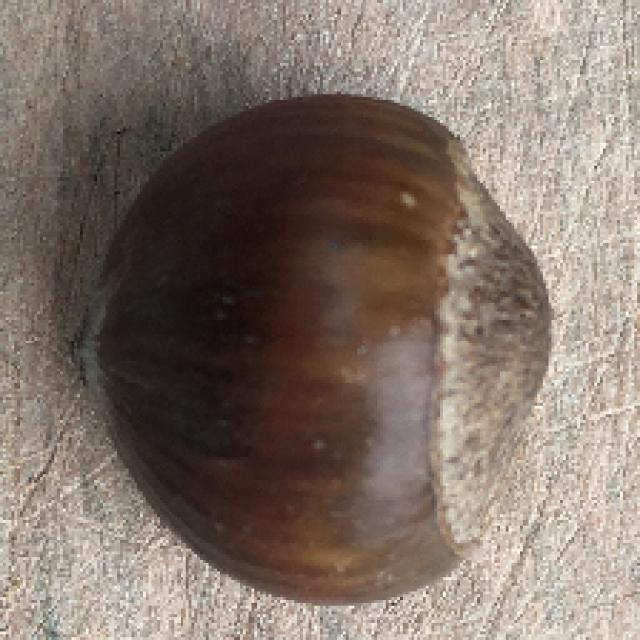DamagedHazelnut: (70, 95, 551, 612)
